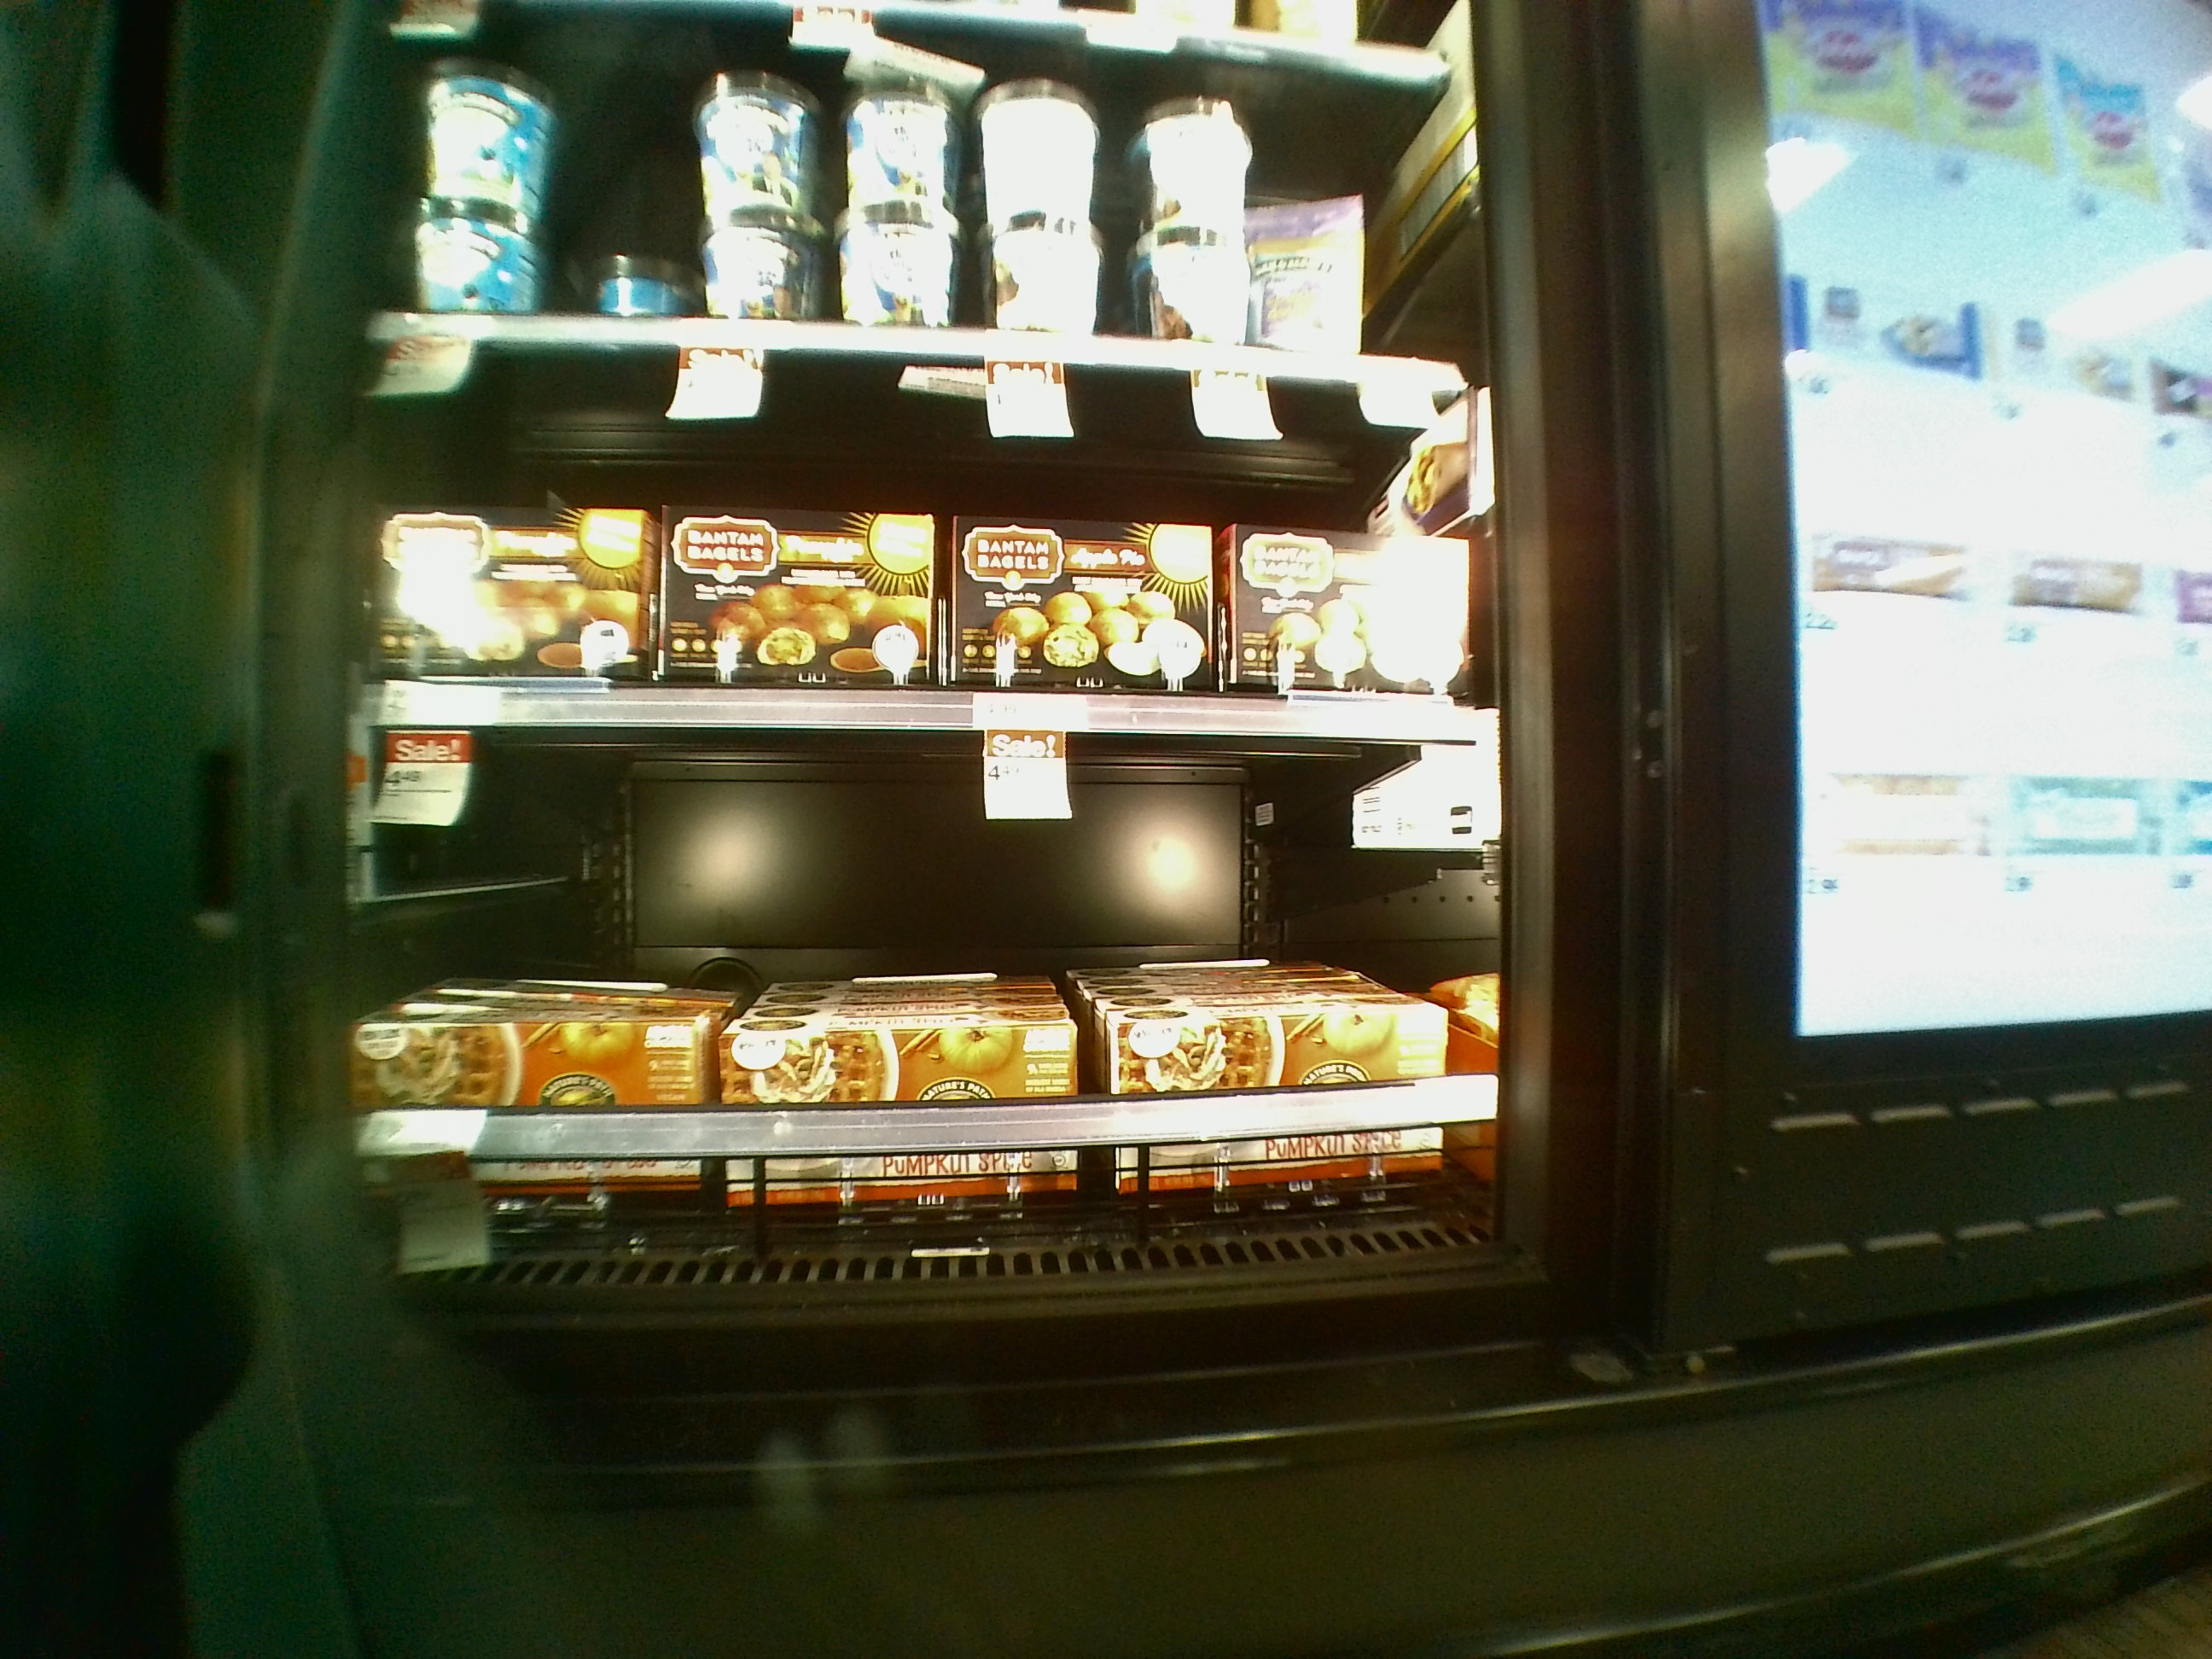shelf: (334, 688, 1524, 1276), (347, 315, 1501, 737)
